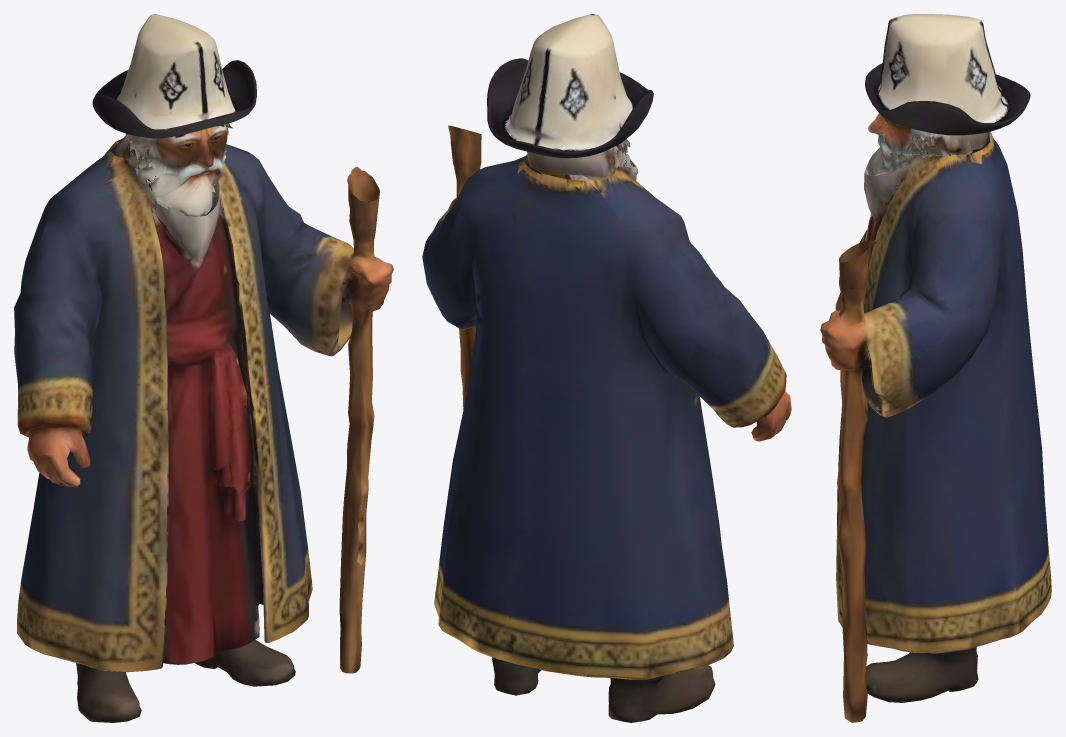
File: elder.gen.glb
The picture shows the model from 3 angles, left to right: view 1: azimuth 30°, elevation 25°; view 2: azimuth 150°, elevation 25°; view 3: azimuth 270°, elevation 25°; orthographic projection. The views are drawn at different scales.
Visible parts, largest first — view 1: elder.raw; view 2: elder.raw; view 3: elder.raw.
Boxes of the visible parts, x1,y1,x2,y2 form: elder.raw: (14,14,393,722); elder.raw: (422,14,791,722); elder.raw: (820,14,1051,722).
Size of the model in its own units: 1.09 by 1.95 by 0.6359.
Materials: 1 (1 with a texture image).
